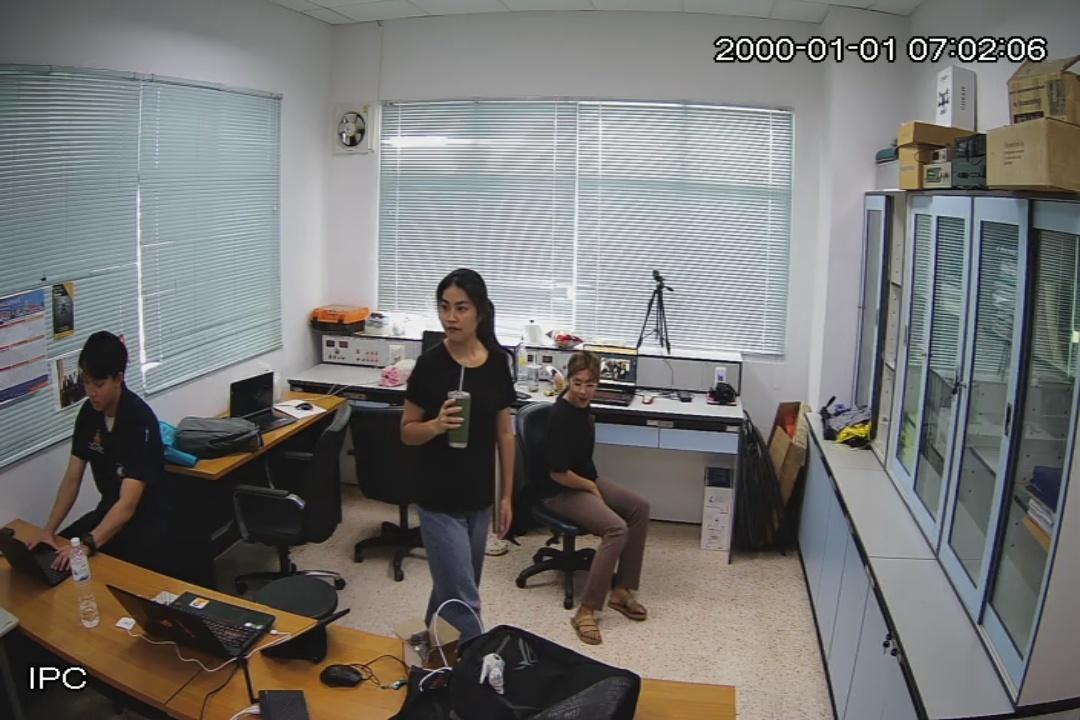normal: (397, 261, 510, 645), (25, 326, 179, 579), (523, 345, 654, 640)
